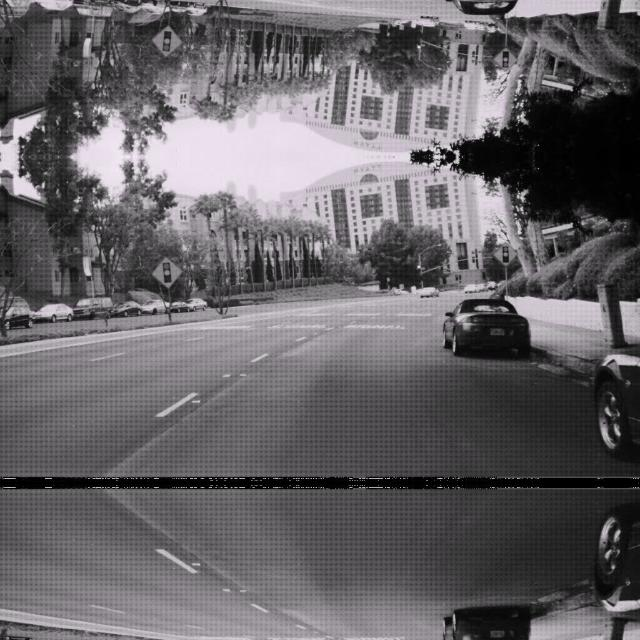signalAhead: (150, 24, 183, 58), (150, 255, 183, 288), (492, 240, 518, 266), (492, 46, 518, 72)
